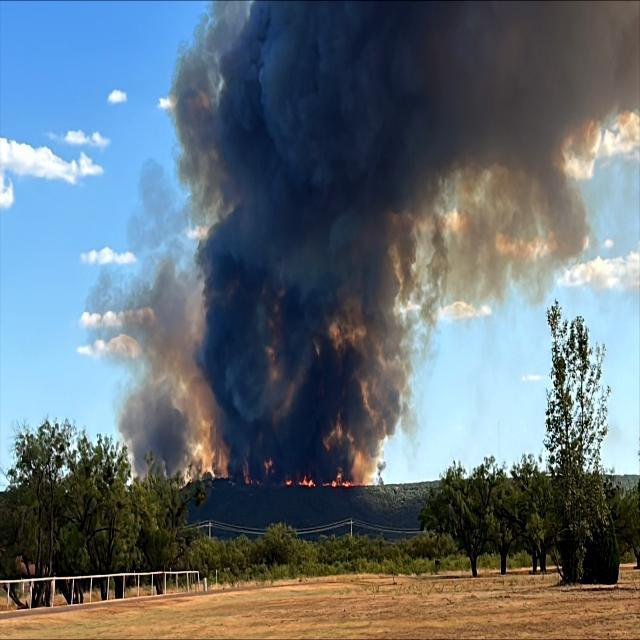Smoke: (152, 0, 640, 485)
